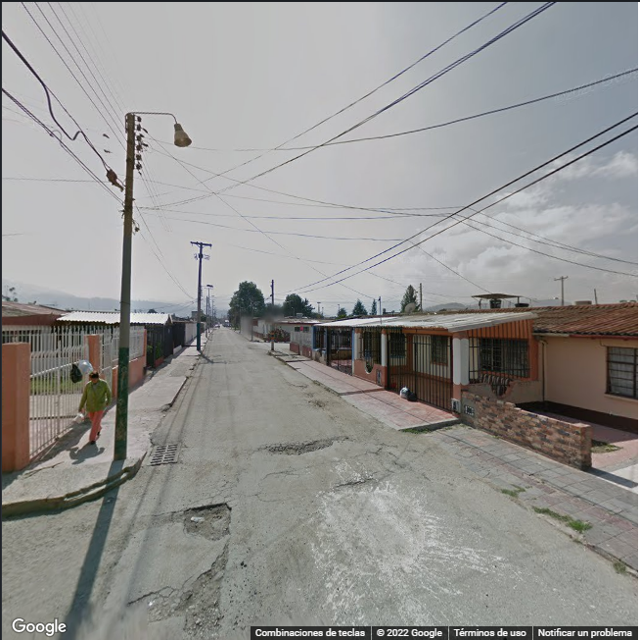D00: (526, 554, 599, 612)
D40: (129, 546, 228, 640), (181, 501, 229, 535), (333, 472, 385, 498)
